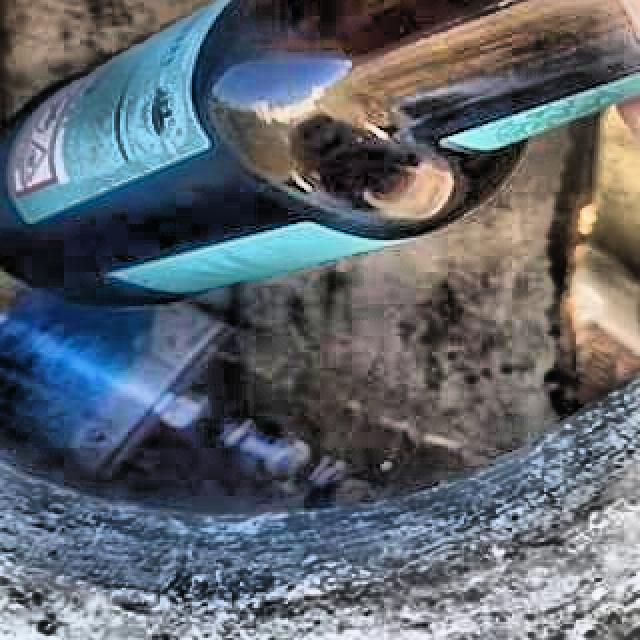glass: (0, 0, 640, 305)
